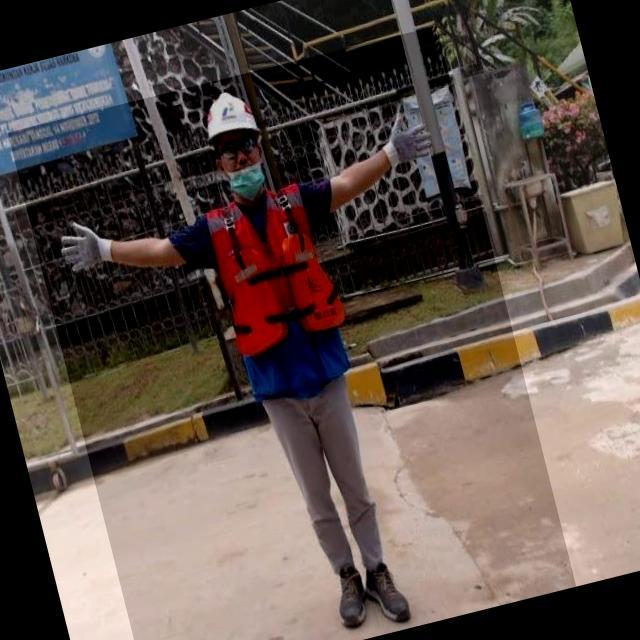Helmet: (196, 87, 259, 146)
Human: (7, 25, 576, 640)
Safety Boot: (359, 555, 413, 628), (328, 563, 375, 635)
Safety Vest: (202, 178, 361, 403)
